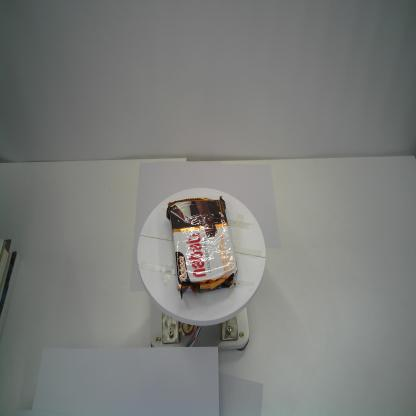Dessert: (164, 195, 243, 299)
